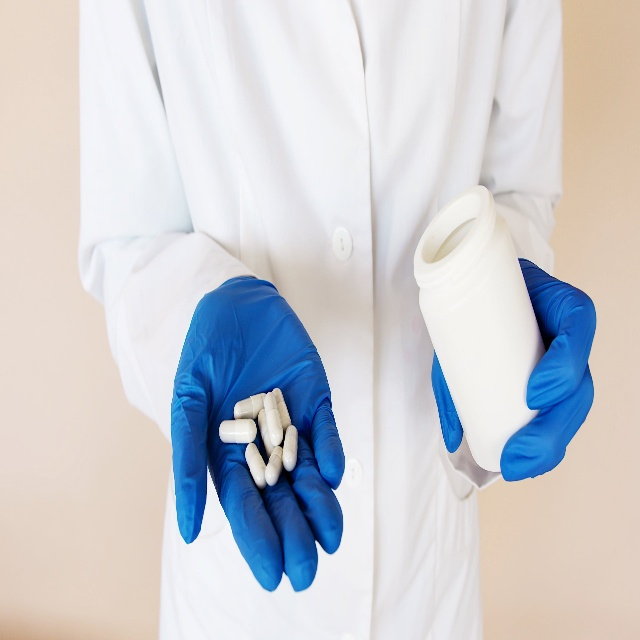Guantes: (169, 266, 350, 594), (425, 251, 597, 482)
